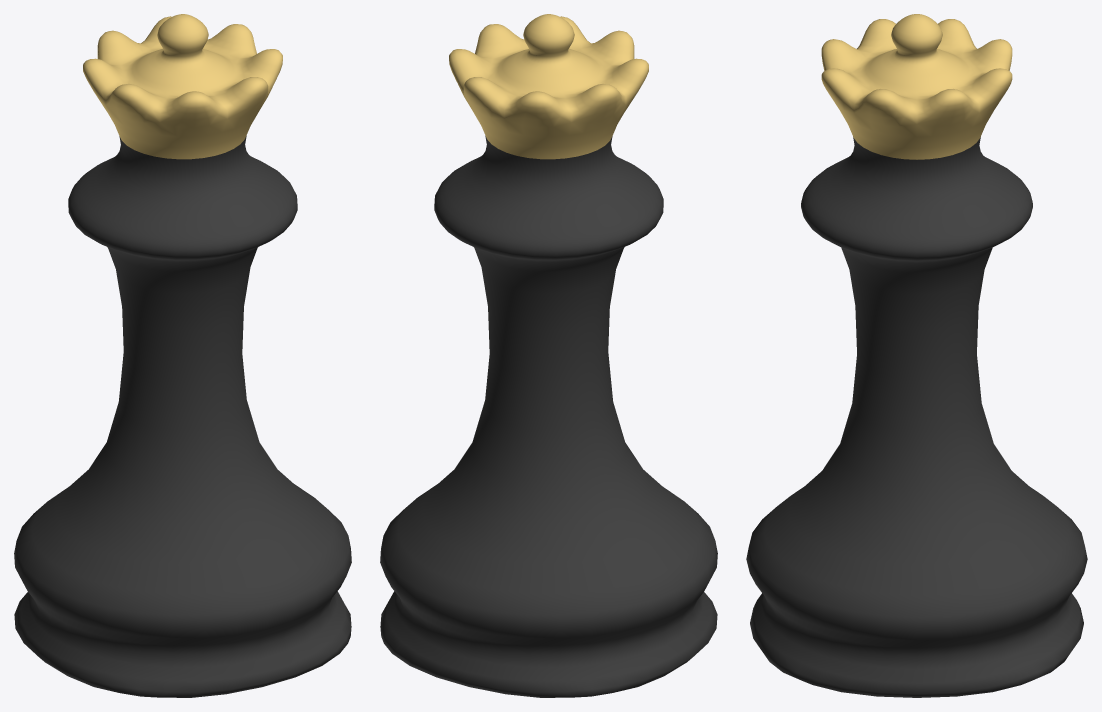
File: sade_q_b.glb
3 views of the same model, side by side, from view 1: azimuth 30°, elevation 25°; view 2: azimuth 150°, elevation 25°; view 3: azimuth 270°, elevation 25° (orthographic).
Parts seen in each view (by area): view 1: x; view 2: x; view 3: x.
Boxes of the visible parts, x1,y1,x2,y2 form: x: (14, 14, 351, 697); x: (380, 14, 717, 697); x: (746, 14, 1087, 697).
Size of the model in its own units: 0.4476 by 0.9 by 0.4476.
